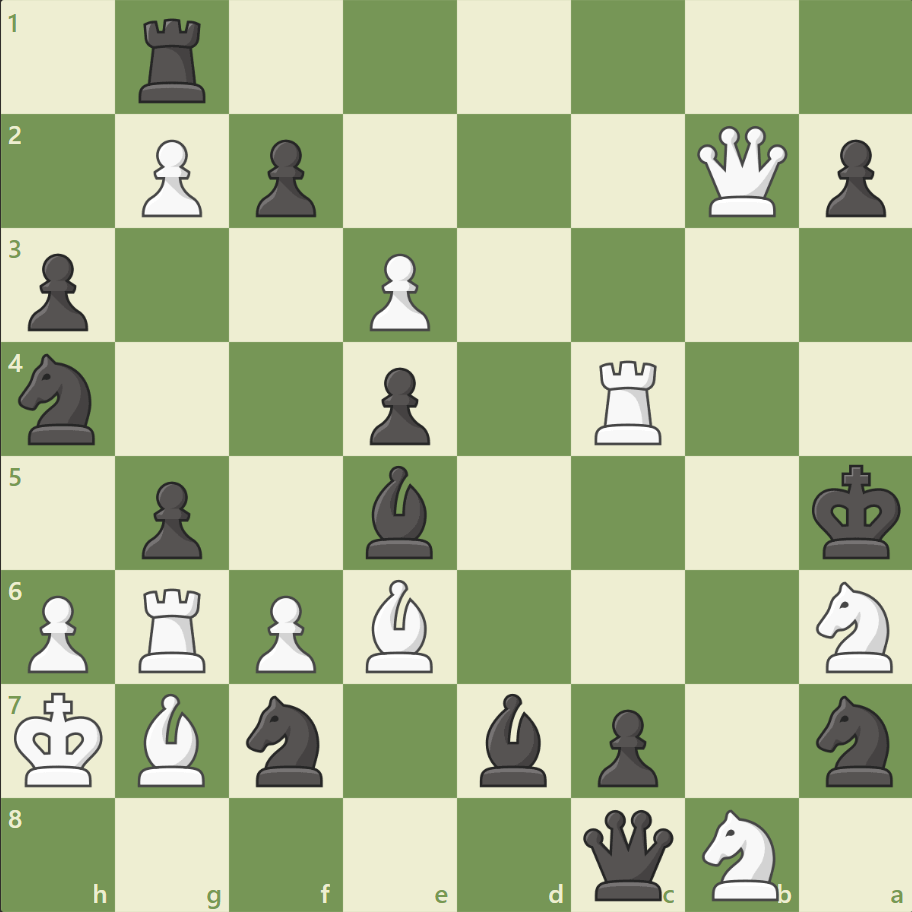B: (131, 687, 215, 790), (358, 574, 442, 676)
K: (11, 685, 111, 793)
N: (692, 802, 789, 904), (806, 575, 903, 677)
P: (247, 586, 322, 677), (20, 586, 95, 677), (133, 132, 208, 223), (361, 246, 435, 337)
Q: (691, 122, 790, 222)
R: (587, 352, 670, 449), (133, 579, 215, 676)
b: (471, 687, 555, 790), (358, 460, 442, 563)
k: (806, 458, 906, 566)
n: (806, 688, 903, 791), (238, 688, 335, 791), (11, 348, 108, 450)
p: (133, 473, 208, 564), (20, 246, 95, 337), (247, 132, 322, 223), (588, 700, 662, 791), (361, 359, 435, 450), (815, 132, 889, 223)
q: (578, 804, 677, 903)
r: (133, 12, 215, 109)
